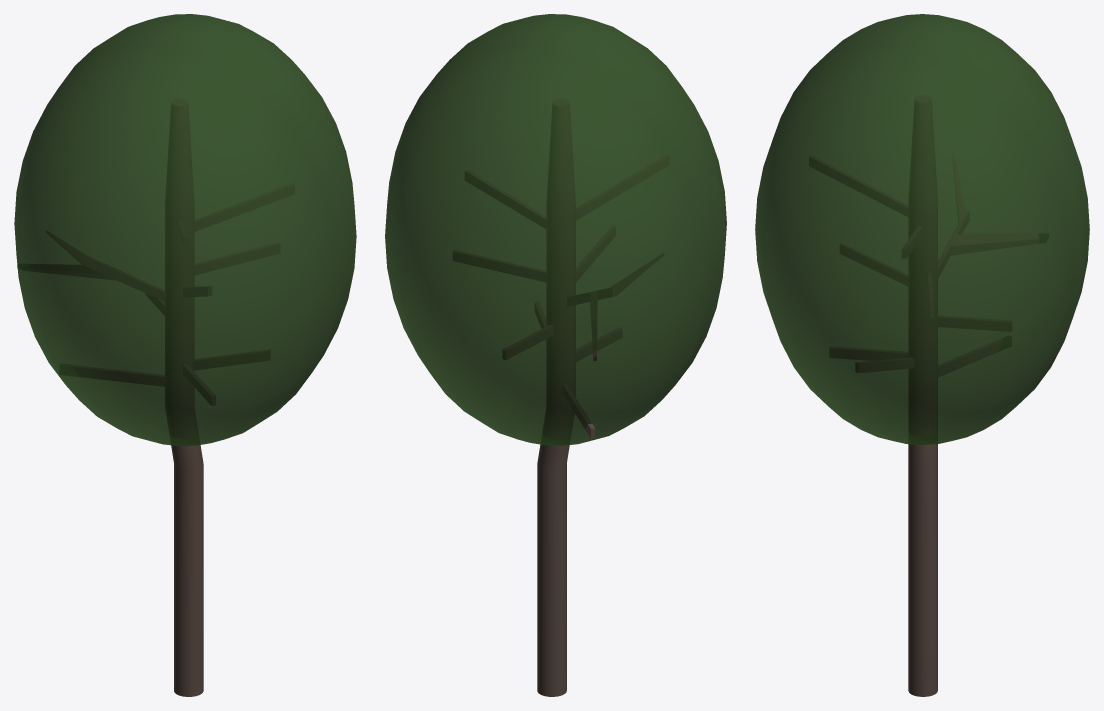
The model's file is arbre mort 2.0.fbx.
3 renders of one model, left to right at view 1: azimuth 30°, elevation 25°; view 2: azimuth 150°, elevation 25°; view 3: azimuth 270°, elevation 25°, orthographic.
Parts seen in each view (by area): view 1: pasted__polySurface3, pasted__polySurface4; view 2: pasted__polySurface3, pasted__polySurface4; view 3: pasted__polySurface3, pasted__polySurface4.
Boxes of the visible parts, x1=… form: pasted__polySurface3: x1=14, y1=14, x2=356, y2=445; pasted__polySurface4: x1=17, y1=99, x2=294, y2=696; pasted__polySurface3: x1=385, y1=14, x2=726, y2=445; pasted__polySurface4: x1=453, y1=99, x2=668, y2=696; pasted__polySurface3: x1=755, y1=14, x2=1089, y2=445; pasted__polySurface4: x1=809, y1=95, x2=1039, y2=696.
Size of the model in its own units: 4.77 by 10.09 by 4.62.
